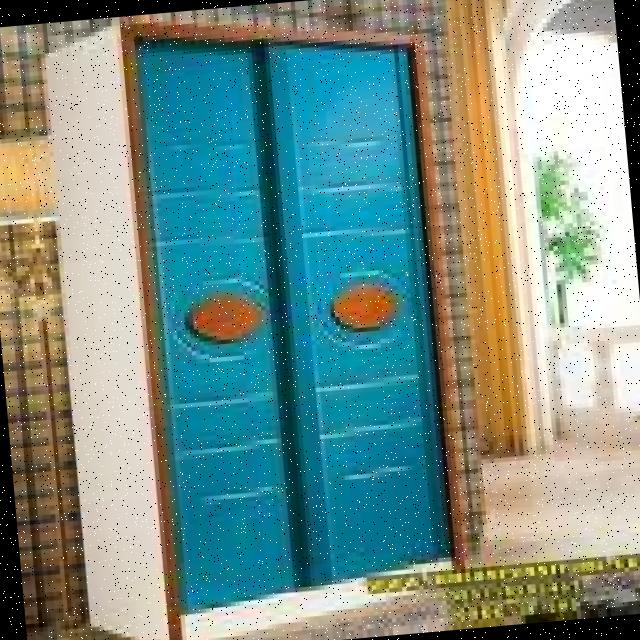Closet: (30, 0, 483, 640)
